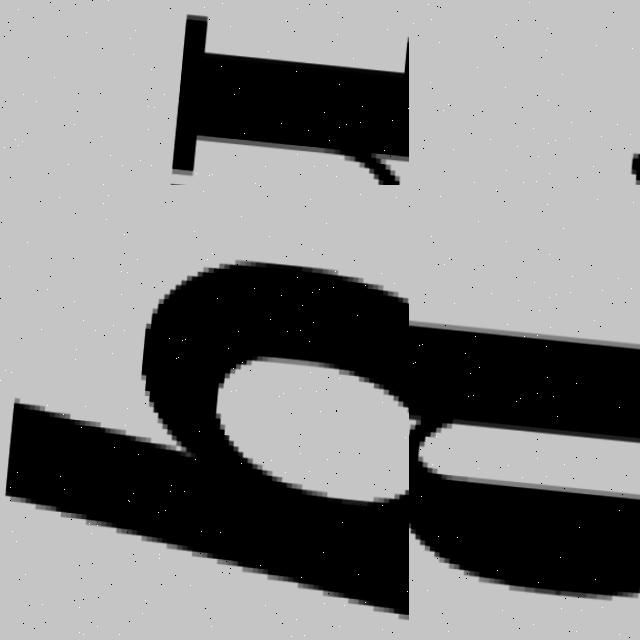2: (409, 94, 640, 185)
M: (134, 2, 409, 185)
P: (409, 325, 640, 598)
Q: (0, 227, 409, 640)
